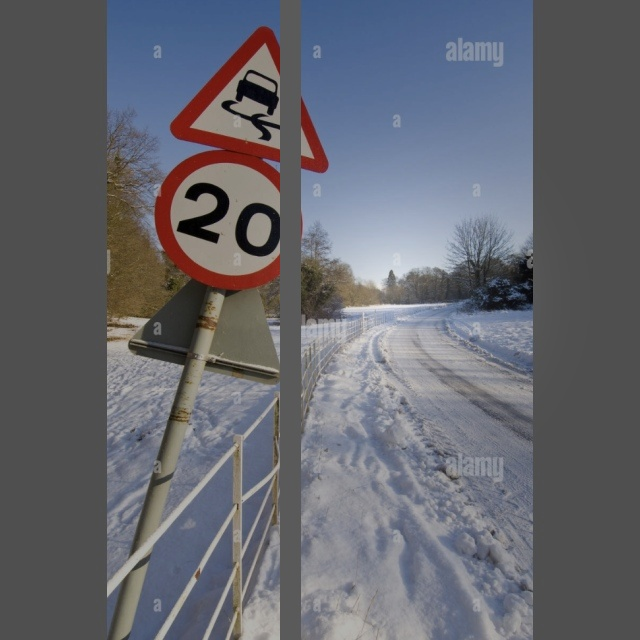Slippery_Road: (172, 27, 335, 164)
